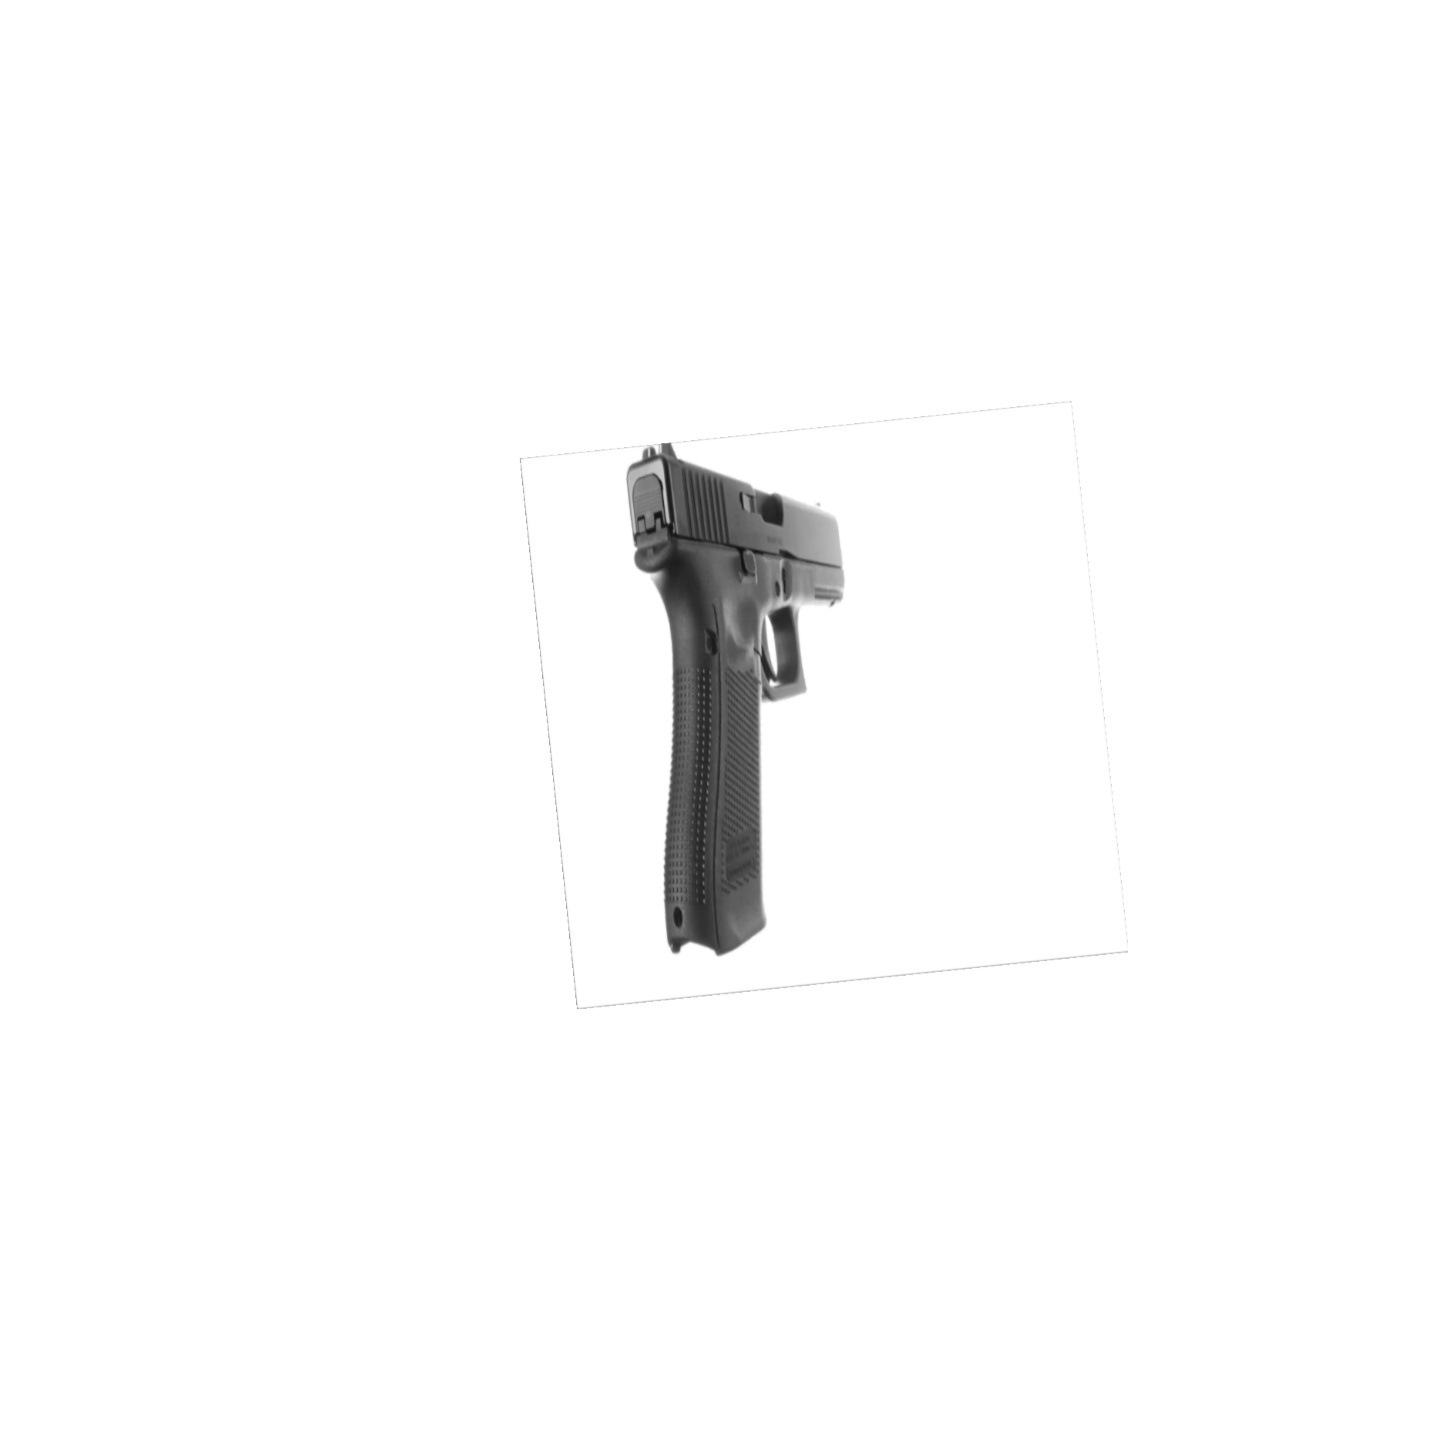gun: (610, 439, 859, 971)
